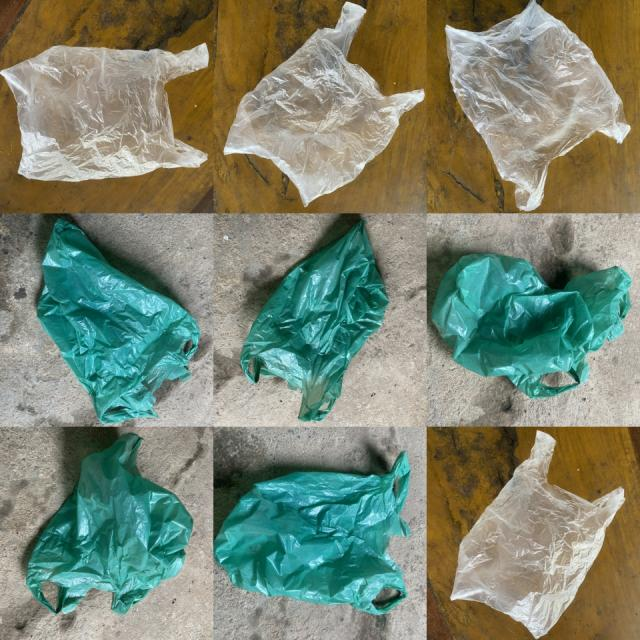Single-layer Plastic: (224, 2, 424, 206), (445, 0, 630, 211), (451, 431, 625, 638), (38, 220, 200, 424), (214, 451, 410, 614), (26, 434, 192, 614), (241, 220, 389, 421), (431, 254, 631, 398), (1, 44, 209, 181)
